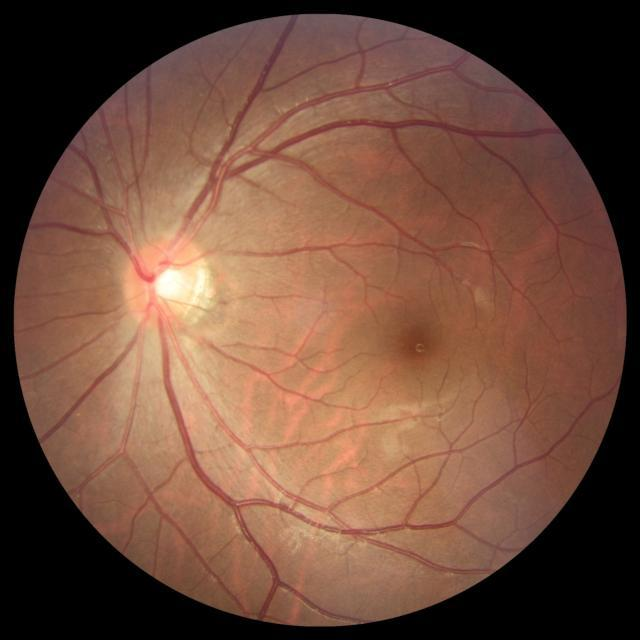OC: (148, 263, 188, 302)
OD: (126, 232, 206, 327)
